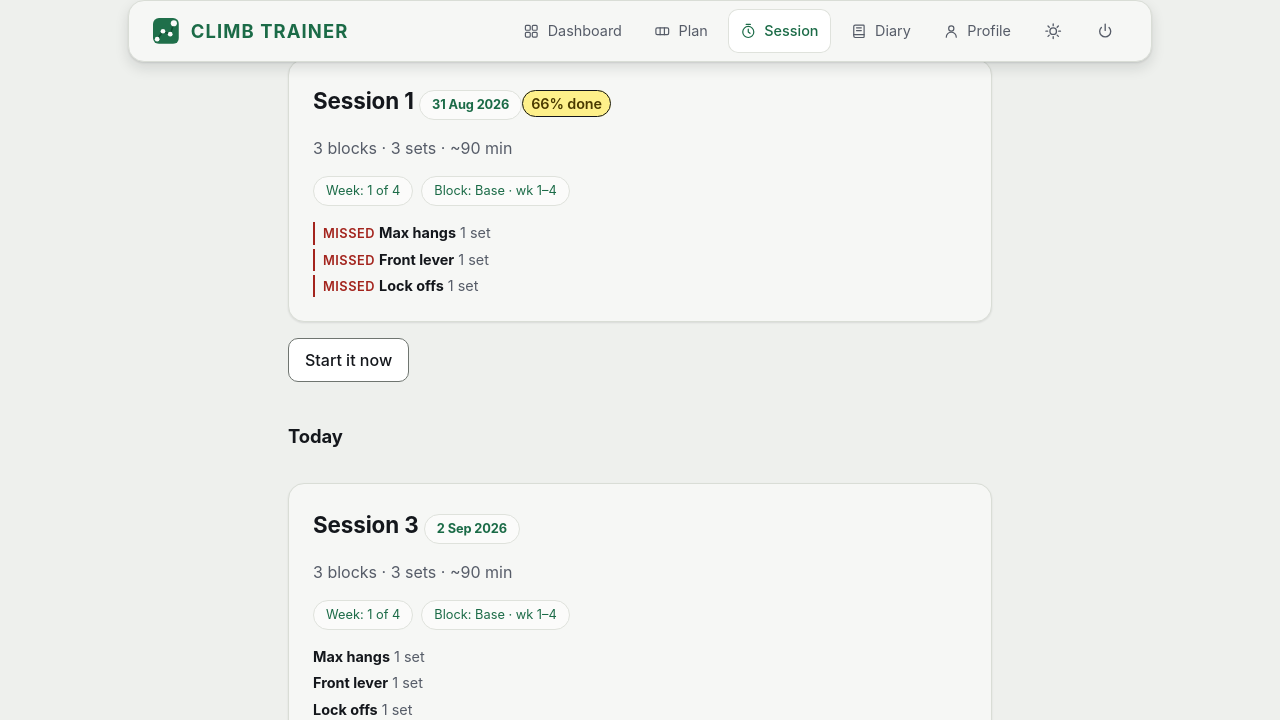
Scenario: ⚠️ routes a run with UNSENT SETS to Save, never to a restart that would replace them
This screenshot has width=1280, height=720.
(page scrolled)
Expected: the heading "Pending from previous days" is shown, [288,1,536,23]
Click the button "Start it now": (349, 360) [288,338,409,382]
(page scrolled)
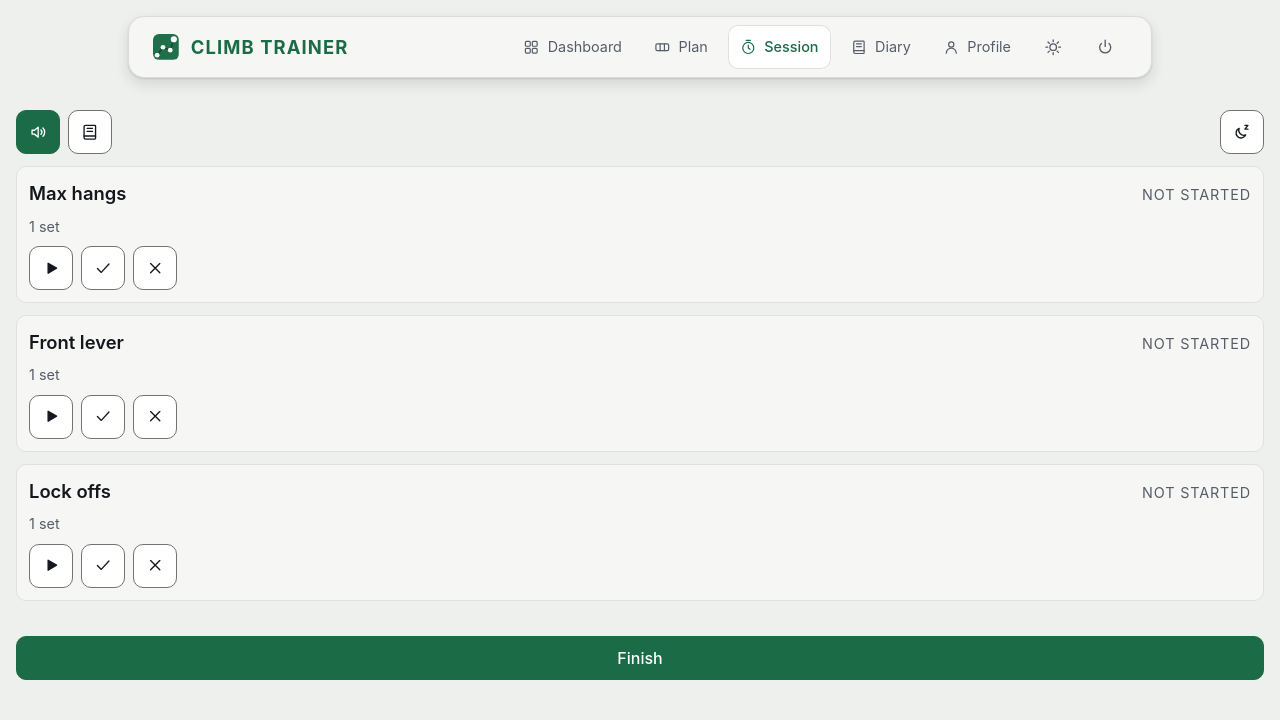
Click the button named "I did Max hangs myself": (103, 268) [81,246,125,290]
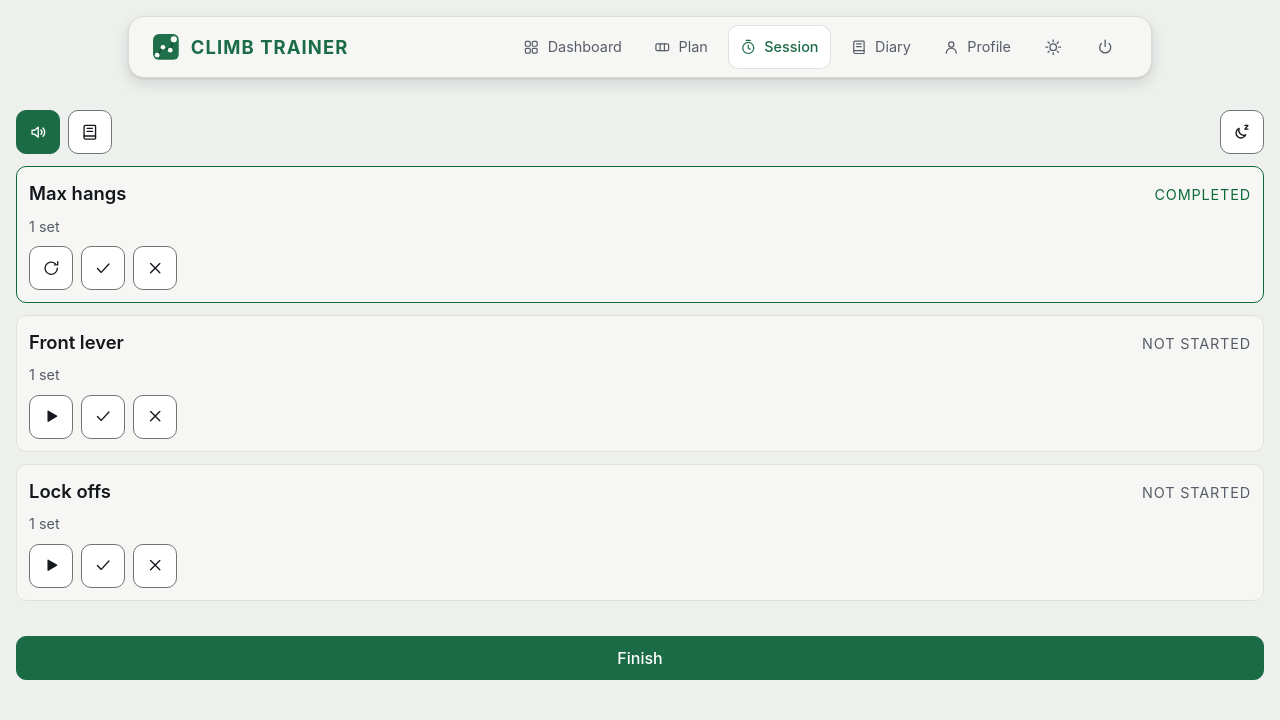
Click the button "Finish": (640, 658) [16,636,1264,680]
(page scrolled)
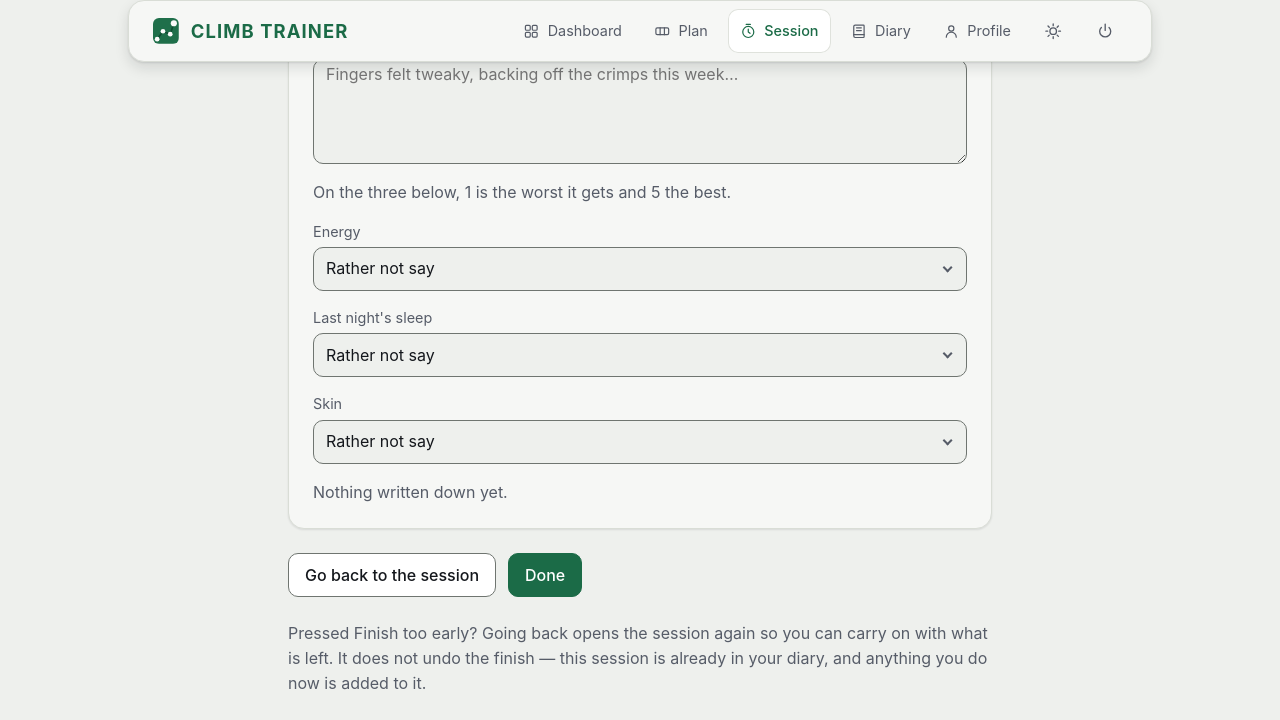
Click the button "Done": (545, 575) [508,553,582,597]
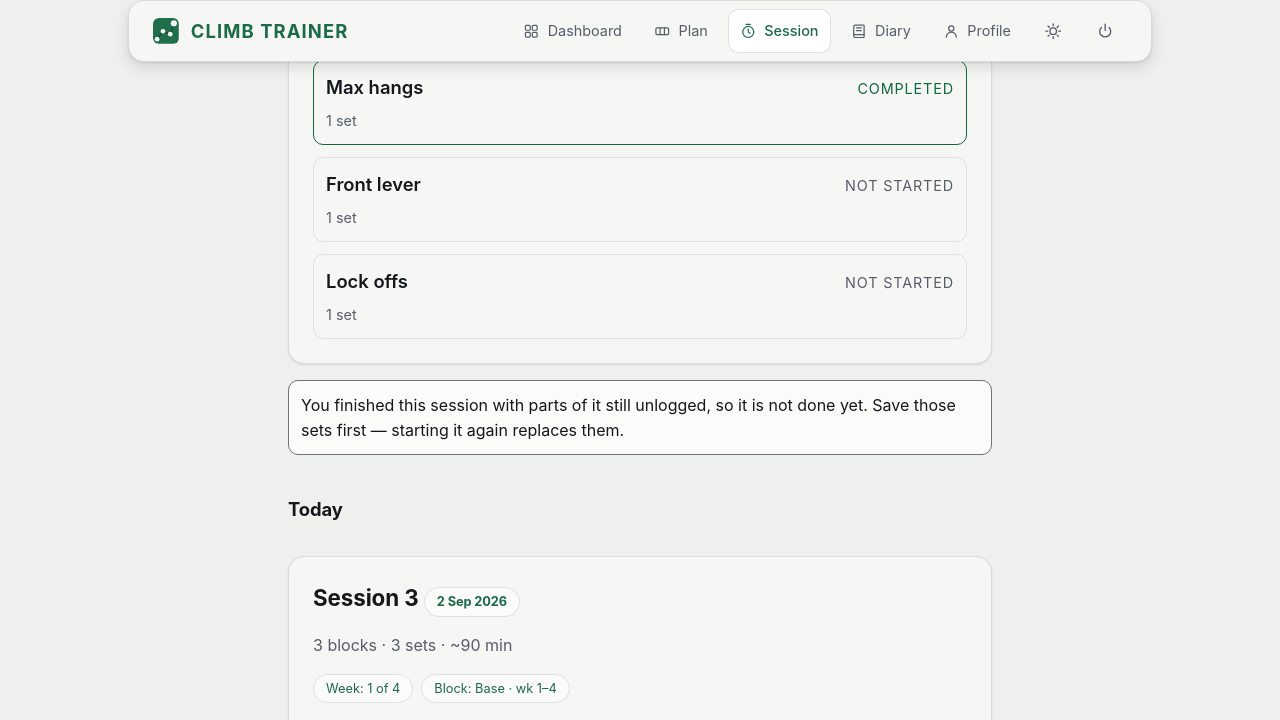
Expected: the button "Start it now" is not shown
Result: the text "Save those sets first" is shown at [301,395,956,440]
